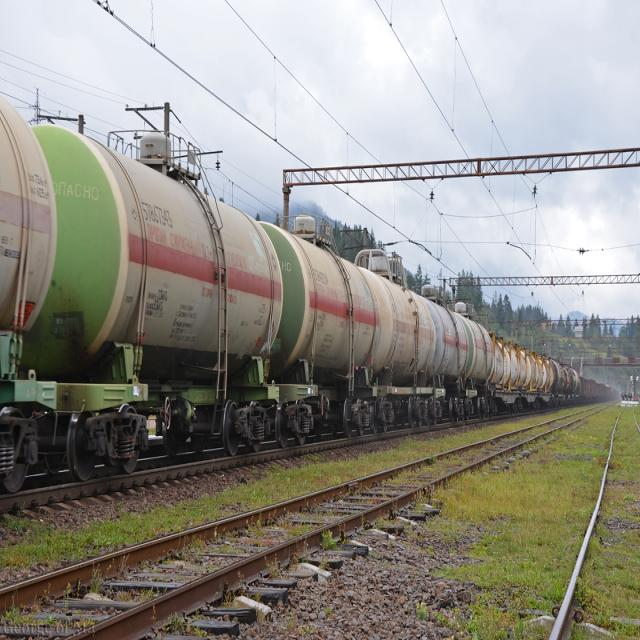tank: (26, 102, 288, 487), (264, 194, 387, 455), (0, 73, 64, 503), (385, 248, 439, 432), (434, 287, 473, 429)
